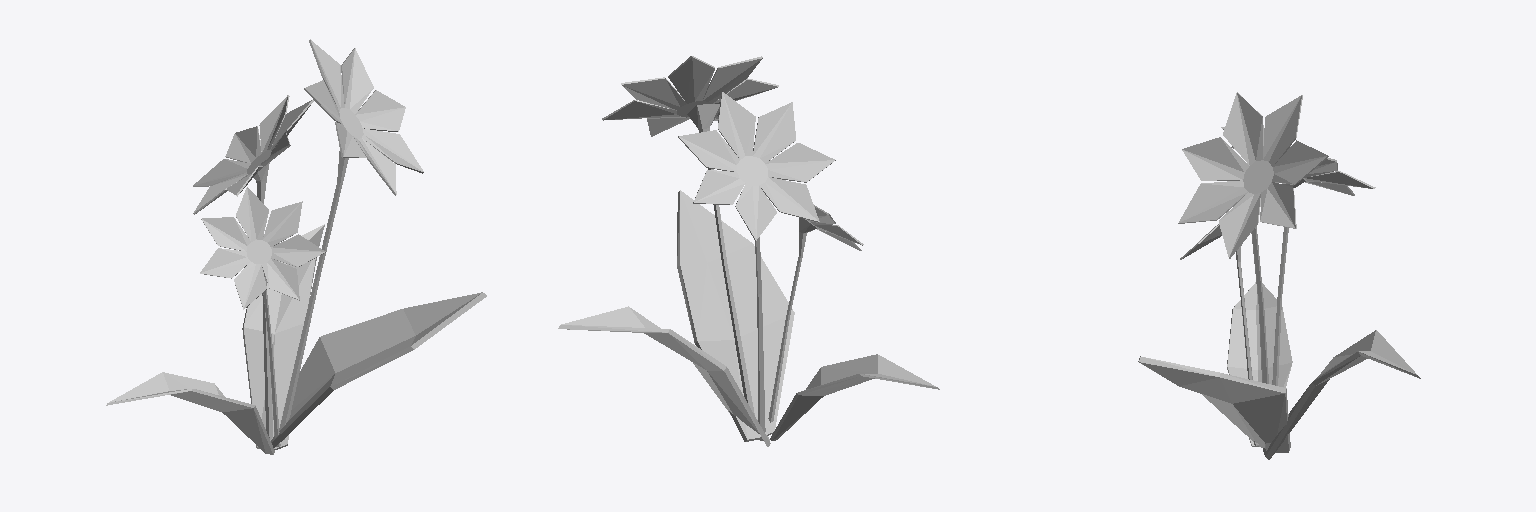
File: plant_02.obj
3 renders of one model, left to right at view 1: azimuth 30°, elevation 25°; view 2: azimuth 150°, elevation 25°; view 3: azimuth 270°, elevation 25°, orthographic.
Parts seen in each view (by area): view 1: Flowers_02; view 2: Flowers_02; view 3: Flowers_02.
Part boxes in pixels (bbox=[...]): Flowers_02: bbox=[106, 39, 486, 454]; Flowers_02: bbox=[558, 56, 939, 446]; Flowers_02: bbox=[1138, 92, 1420, 459].
Bounding box in the file's own units: 0.3164 × 0.3622 × 0.2413.